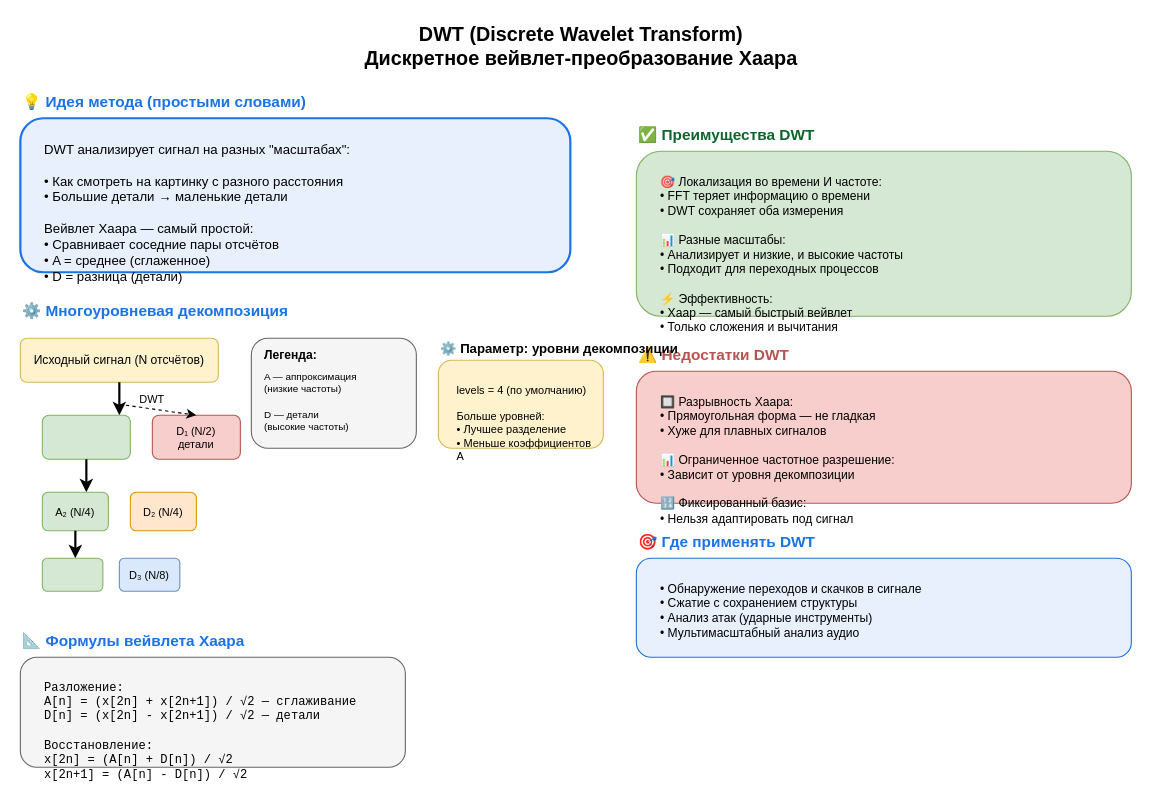
The diagram is 1151 pixels wide and 801 high, and some of its shapes have lost their labels. The shapes that lost their labels are listed below. From the top down, each one's centre as x and y in pixels, then its label:
At [85,436]: "A₁ (N/2) аппроксимация".
At [72,574]: "A₃ (N/8)".
